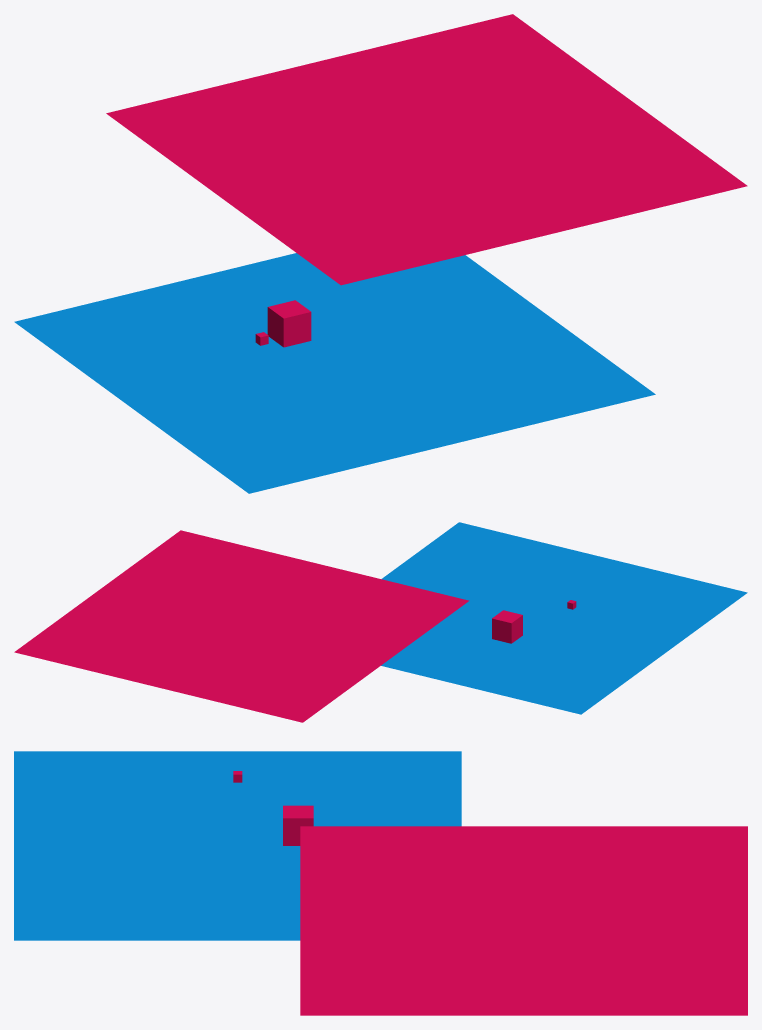
Rendered from test_level.glb.
The picture shows the model from 3 angles, top to bottom: view 1: azimuth 30°, elevation 25°; view 2: azimuth 150°, elevation 25°; view 3: azimuth 270°, elevation 25°; orthographic projection. The views are drawn at different scales.
Parts seen in each view (by area): view 1: Floor.001, Floor, StaticCube; view 2: Floor.001, Floor, StaticCube; view 3: Floor.001, Floor, StaticCube.
Part boxes in pixels (<box>): Floor.001: <box>106,14,747,285</box>; Floor: <box>14,253,655,493</box>; StaticCube: <box>267,300,311,347</box>; Floor.001: <box>14,530,469,722</box>; Floor: <box>381,522,747,714</box>; StaticCube: <box>492,610,522,643</box>; Floor.001: <box>300,826,747,1015</box>; Floor: <box>14,751,461,940</box>; StaticCube: <box>283,805,313,845</box>.
Size of what is drawn, in the model's own units: 79.74 by 4.85 by 81.95.
